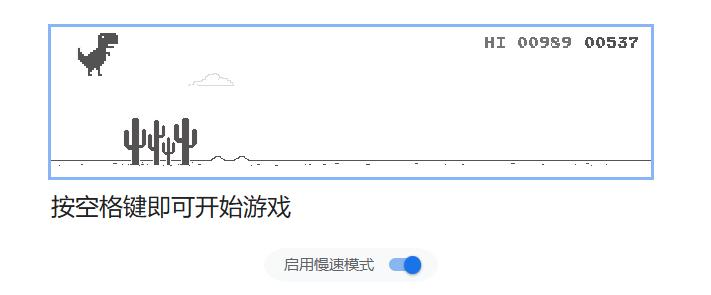cactus: (120, 112, 198, 168)
dino: (76, 31, 122, 77)
